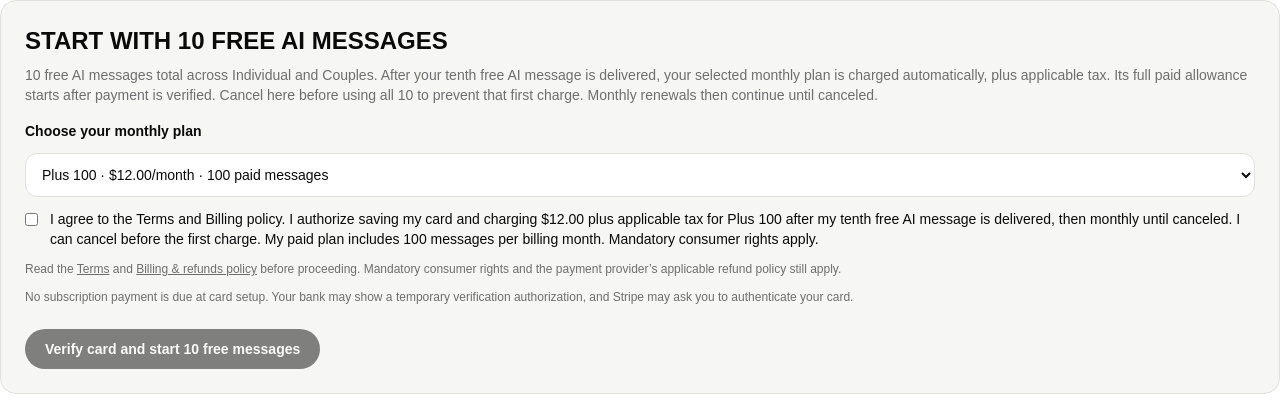
Test: an invalid setup URL remains unconfirmed and does not redirect or grant messages
The image size is (1280, 411).
Step 1. Click the checkbox → (32, 220), box x1=25 y1=213 x2=38 y2=226
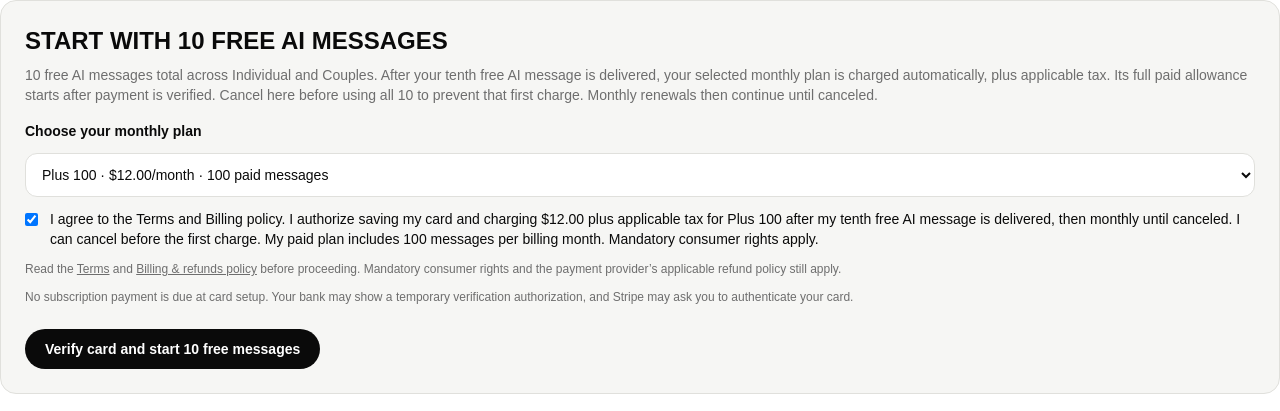
Step 2. Click the button "Verify card and start 10 free messages" → (173, 349), box x1=25 y1=329 x2=320 y2=369
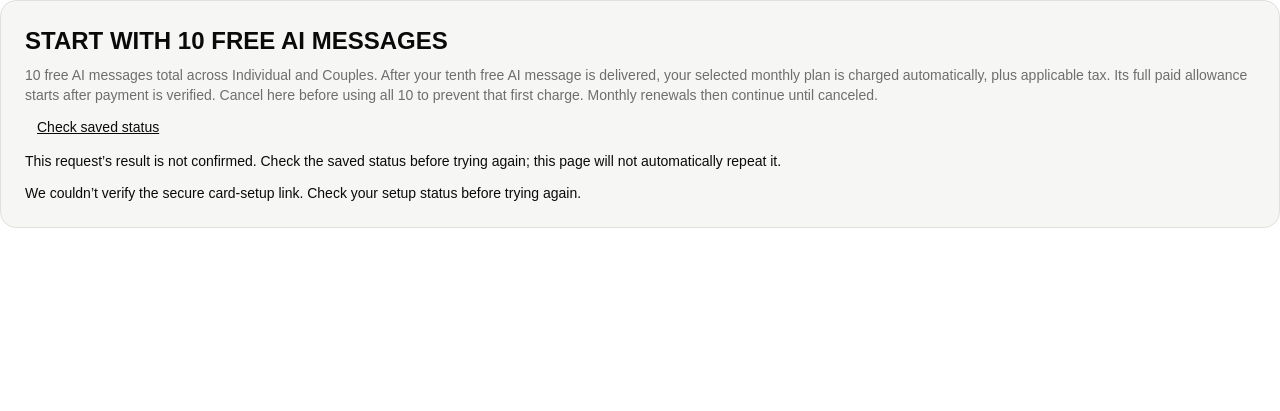
Check: the text "couldn’t verify the secure card-setup link" is shown, box x1=25 y1=185 x2=581 y2=201
